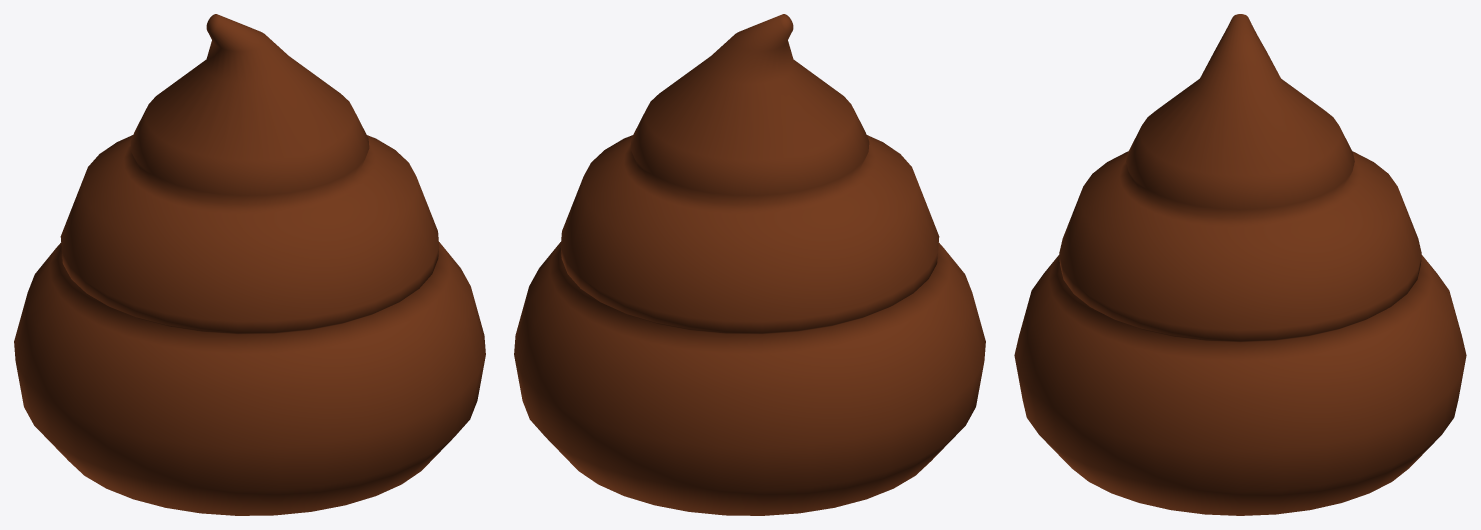
The model's file is poop00.fbx.
The picture shows the model from 3 angles, left to right: view 1: azimuth 30°, elevation 25°; view 2: azimuth 150°, elevation 25°; view 3: azimuth 270°, elevation 25°; orthographic projection. The views are drawn at different scales.
Visible parts, largest first — view 1: poop0; view 2: poop0; view 3: poop0.
Part boxes in pixels (x1,y1,x2,y2): poop0: (14,14,485,515); poop0: (514,14,985,515); poop0: (1014,14,1466,515).
Size of what is drawn, in the model's own units: 100 by 100 by 100.
